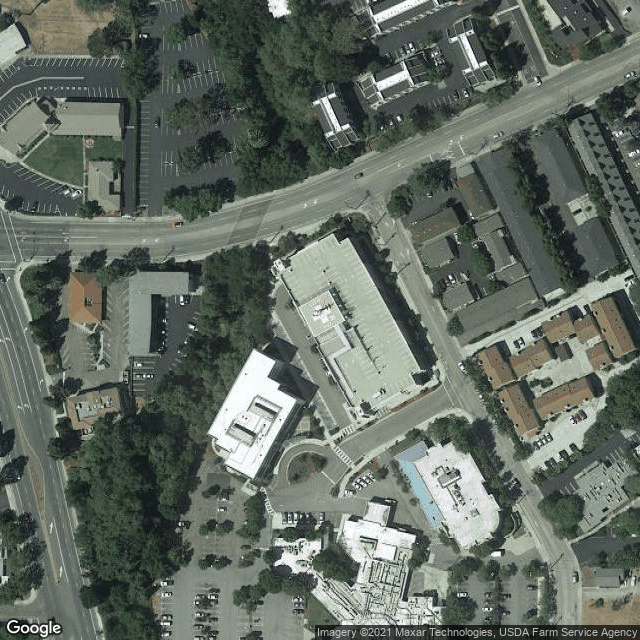Helipad: (294, 289, 346, 337)
